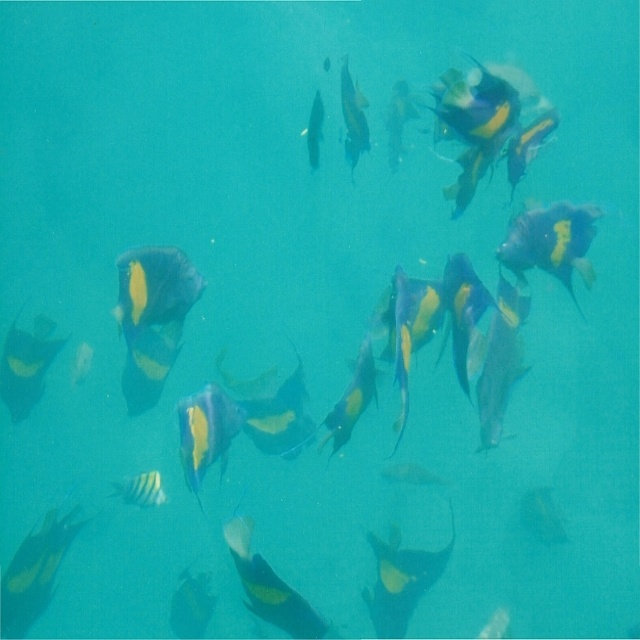Fish: (0, 48, 608, 640)
